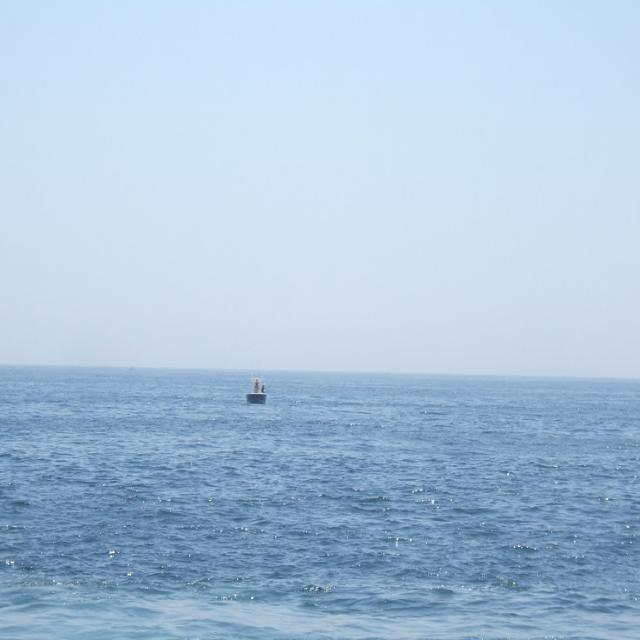buoy: (244, 365, 271, 407)
